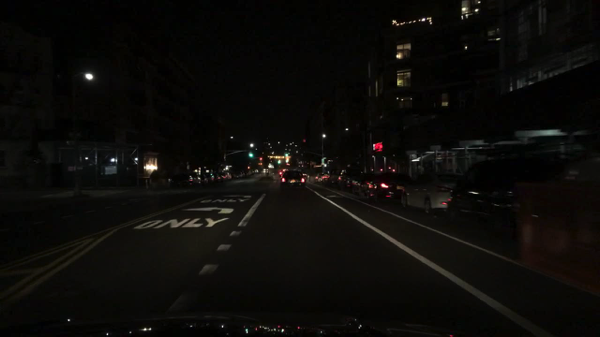car: (445, 149, 600, 241), (401, 172, 462, 215), (364, 170, 412, 204), (149, 169, 194, 188), (279, 170, 307, 190), (337, 166, 360, 190), (350, 172, 373, 194), (321, 171, 338, 184), (198, 170, 208, 184), (314, 173, 326, 184), (205, 170, 215, 182), (191, 172, 201, 184), (279, 168, 290, 178), (214, 171, 224, 181), (232, 171, 244, 179), (224, 170, 232, 180), (245, 169, 253, 177), (251, 168, 259, 174)
motor: (264, 171, 270, 176)
rider: (264, 166, 270, 171)
traffic light: (301, 138, 306, 143), (258, 156, 263, 161), (249, 151, 253, 157)
traffic sign: (321, 157, 326, 165), (67, 167, 76, 171)
